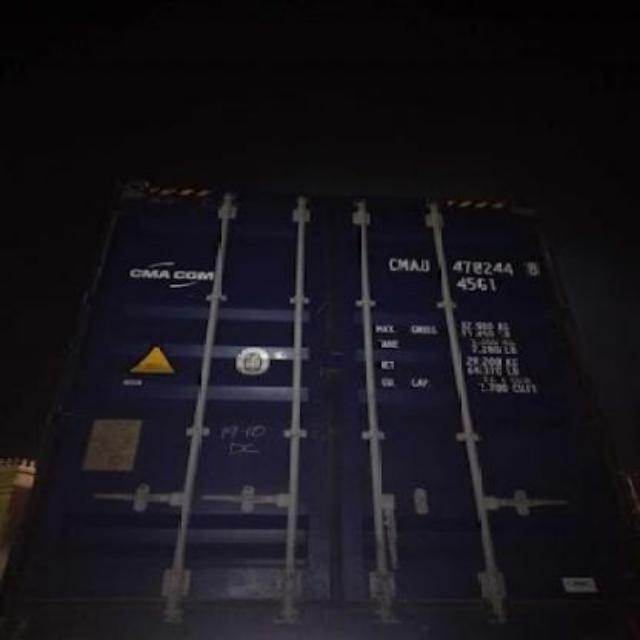2: (484, 260, 492, 276)
4: (504, 261, 516, 277), (452, 260, 464, 274), (494, 260, 504, 276)
7: (462, 260, 474, 274)
8: (472, 260, 482, 276), (528, 260, 538, 276)
A: (410, 258, 420, 272)
C: (388, 256, 398, 272)
M: (398, 258, 410, 272)
U: (418, 258, 428, 272)
